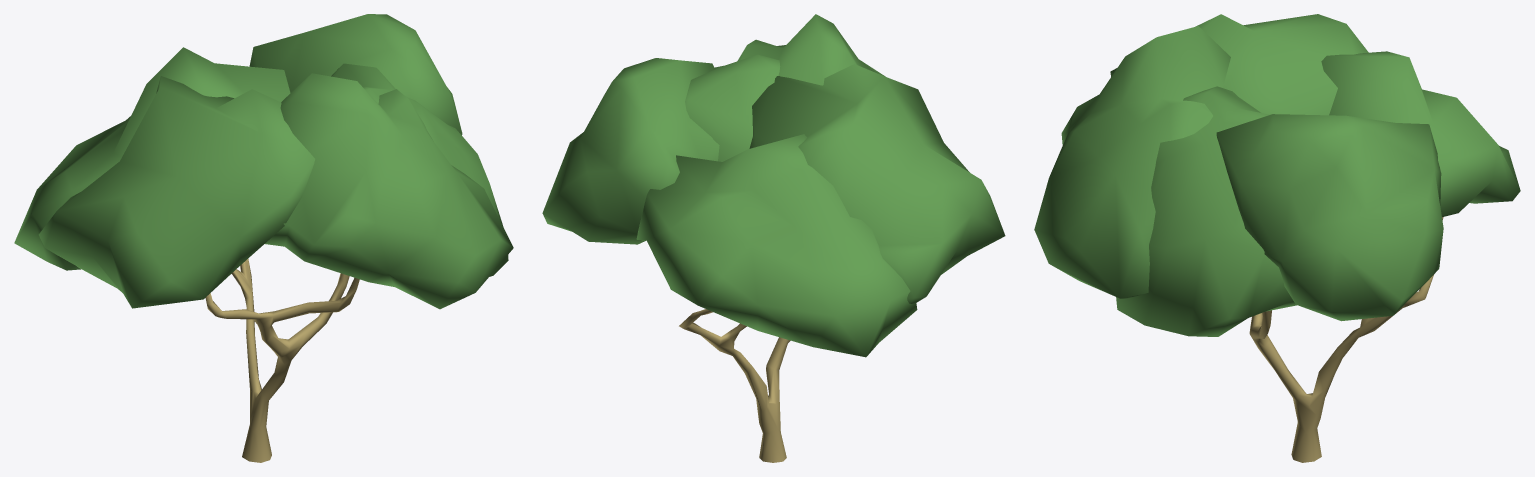
File: tree1.glb
3 views of the same model, side by side, from view 1: azimuth 30°, elevation 25°; view 2: azimuth 150°, elevation 25°; view 3: azimuth 270°, elevation 25° (orthographic). The views are drawn at different scales.
Parts seen in each view (by area): view 1: Cube.407; view 2: Cube.407; view 3: Cube.407.
Boxes of the visible parts, box(x1,y1,x2,y2) form: Cube.407: box(14, 14, 513, 462); Cube.407: box(542, 14, 1005, 462); Cube.407: box(1034, 14, 1520, 462).
Bounding box in the file's own units: 7.12 × 7.14 × 7.27.
1 material, 1 textured.
